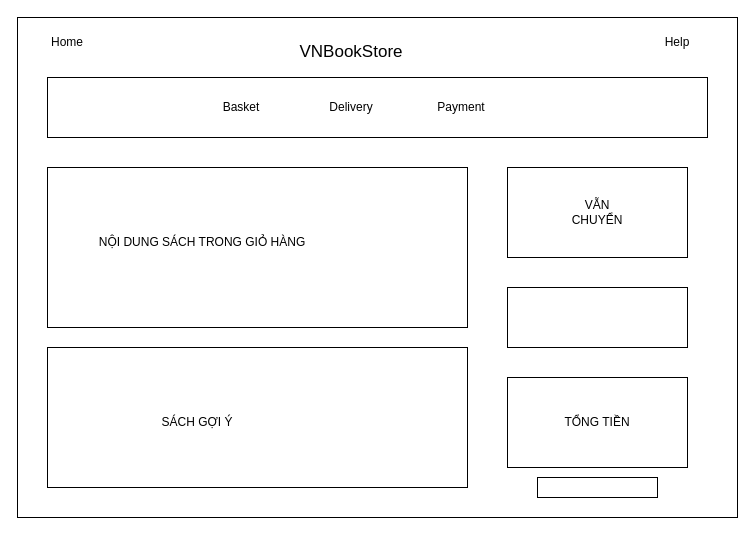
The diagram is 755 pixels wide and 535 high, and some of its shapes have lost their labels. The box of each missing label's shape, as (x1, y1, x2, y2) in pixels:
PHIẾU GIẢM GIÁ: (506, 286, 688, 348)
ĐẾN DELIVERY: (536, 476, 658, 498)
